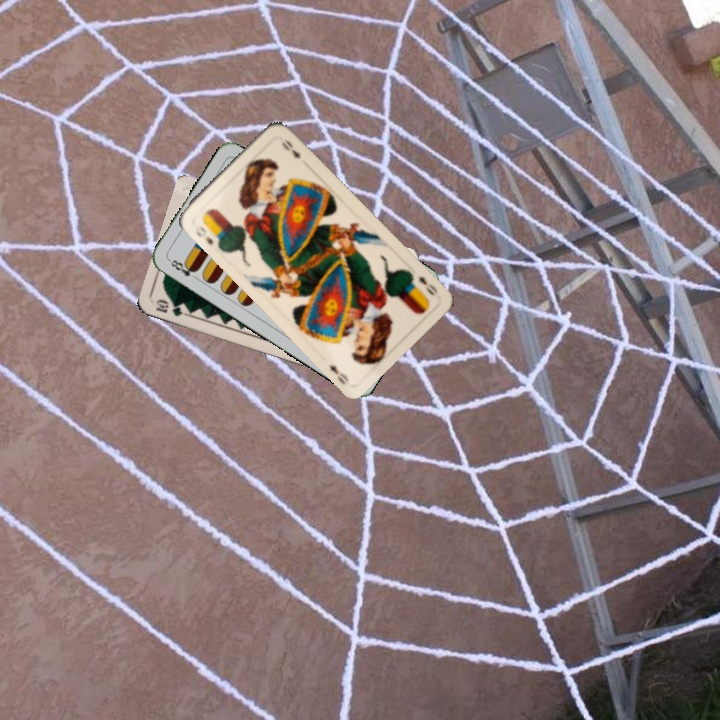E8: (164, 255, 200, 282)
EO: (413, 271, 440, 298), (191, 221, 216, 248)
G10: (151, 295, 191, 319)
